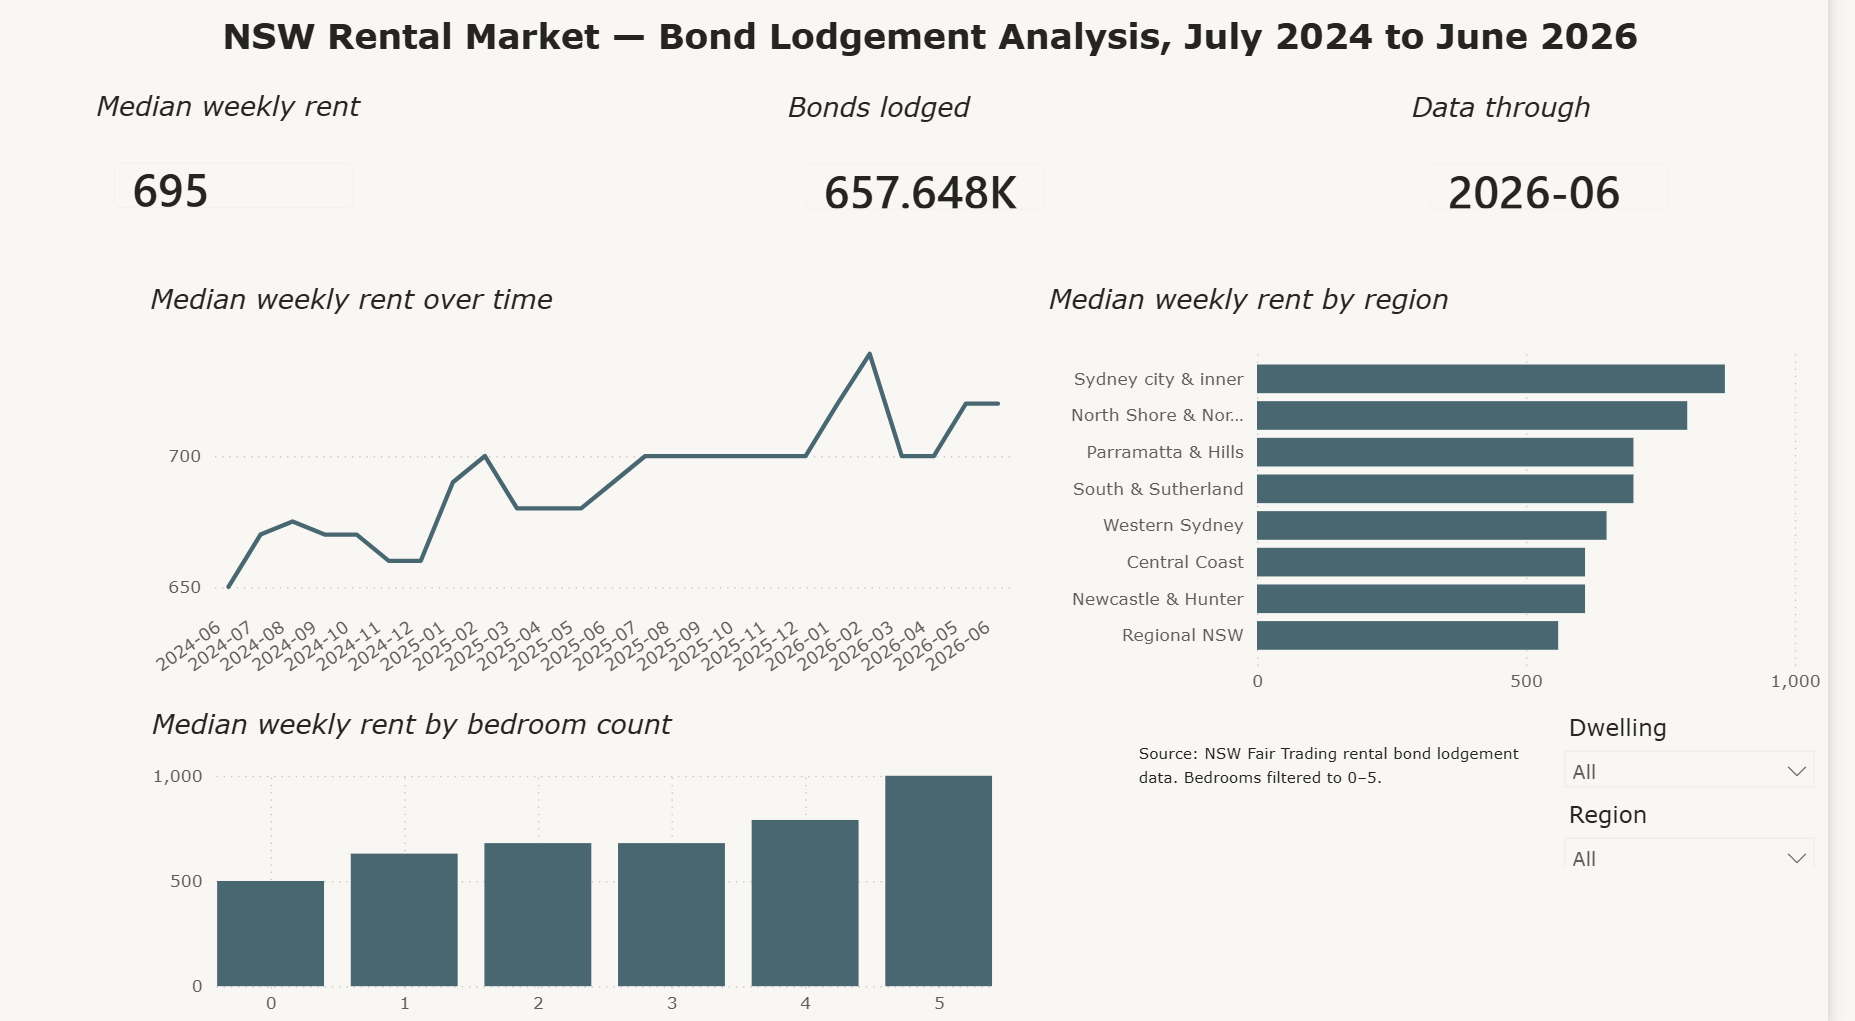

This screenshot's page, from the dashboard's own definition file:
{"tool":"powerbi","page":{"name":"Page 1","canvas":[1280,720],"ordinal":0},"visuals":[{"type":"lineChart","title":"Median weekly rent over time","fields":{"Y":["Median(Data.Weekly Rent)"],"Category":["Data.Month"]},"box":[112.4,202.8,606,293.2],"z":0},{"type":"clusteredBarChart","title":"Median weekly rent by region","fields":{"Category":["Data.Region"],"Y":["Median(Data.Weekly Rent)"]},"box":[734.9,202.7,544.7,293.1],"z":1000},{"type":"cardVisual","title":"Median weekly rent","fields":{"Data":["Median(Data.Weekly Rent)"]},"box":[75,69,200.5,100],"z":2000},{"type":"cardVisual","title":"Bonds lodged","fields":{"Data":["CountNonNull(Data.Weekly Rent)"]},"box":[553.9,69.5,200,100],"z":3000},{"type":"cardVisual","title":"Data through","fields":{"Data":["Max(Data.Month)"]},"box":[986.1,69.5,200,100],"z":4000},{"type":"clusteredColumnChart","title":"Median weekly rent by bedroom count","fields":{"Category":["Data.Bedrooms"],"Y":["Median(Data.Weekly Rent)"]},"box":[113.6,497.1,592.1,222.5],"z":5000},{"type":"slicer","fields":{"Values":["Data.Region"]},"box":[1086.9,556.2,193.5,52.1],"z":6000},{"type":"slicer","fields":{"Values":["Data.Dwelling"]},"box":[1086.9,495.9,193.5,60.3],"z":7000},{"type":"textbox","box":[162.2,11.4,1093.5,57.2],"z":8000},{"type":"textbox","box":[797.3,514.5,290,59.3],"z":8001}]}

Visuals, with their boxes in screenshot pixels (x1, y1, x2, y2), scaled from the page's 1280x720 canvas onto the 1855x1021 screenshot:
"Median weekly rent over time" lineChart: pyautogui.locateOnScreen(163, 288, 1041, 703)
"Median weekly rent by region" clusteredBarChart: pyautogui.locateOnScreen(1065, 287, 1854, 703)
"Median weekly rent" cardVisual: pyautogui.locateOnScreen(109, 98, 399, 240)
"Bonds lodged" cardVisual: pyautogui.locateOnScreen(803, 99, 1093, 240)
"Data through" cardVisual: pyautogui.locateOnScreen(1429, 99, 1719, 240)
"Median weekly rent by bedroom count" clusteredColumnChart: pyautogui.locateOnScreen(165, 705, 1023, 1020)
slicer - Data.Region: pyautogui.locateOnScreen(1575, 789, 1854, 863)
slicer - Data.Dwelling: pyautogui.locateOnScreen(1575, 703, 1854, 789)
textbox: pyautogui.locateOnScreen(235, 16, 1820, 97)
textbox: pyautogui.locateOnScreen(1155, 730, 1576, 814)
